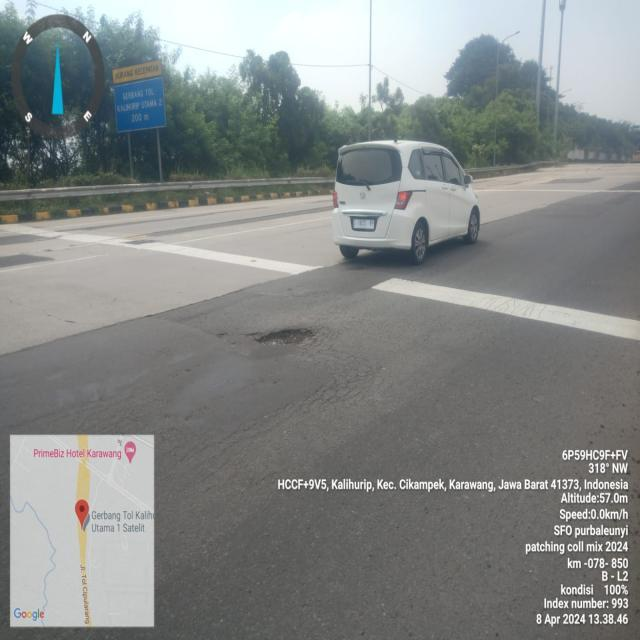Buraco: (253, 326, 320, 348)
